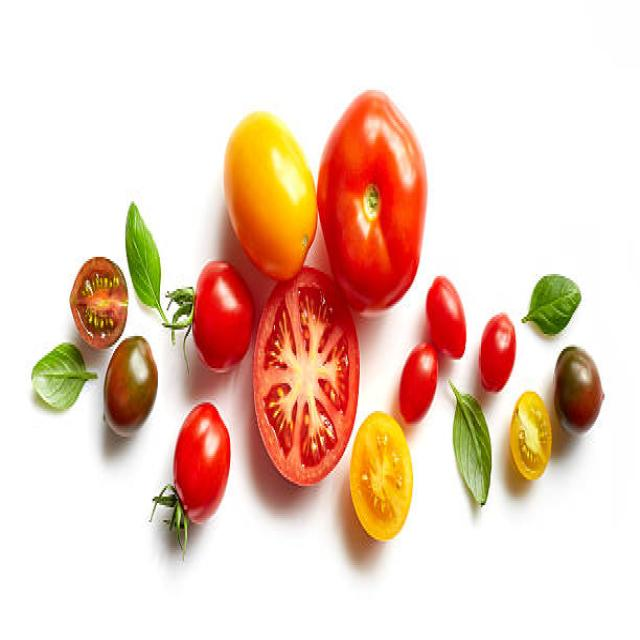Tomato: (252, 247, 360, 502)
